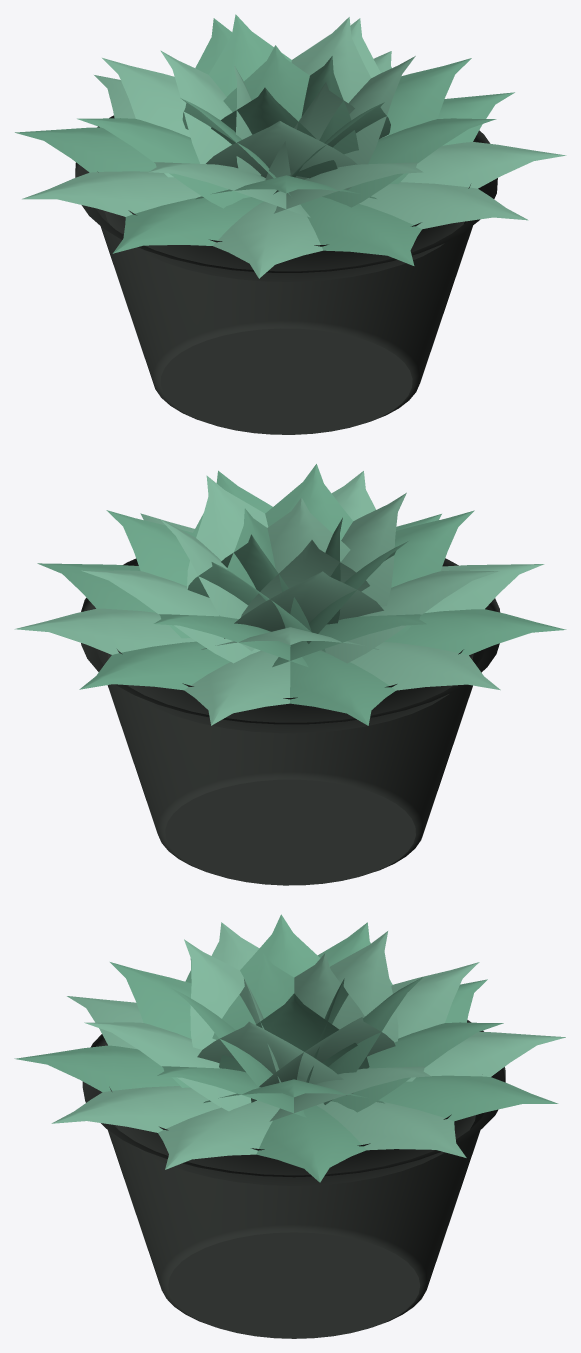
The model's file is succulent_charcoal_S.glb.
3 renders of one model, top to bottom at view 1: azimuth 30°, elevation 25°; view 2: azimuth 150°, elevation 25°; view 3: azimuth 270°, elevation 25°, orthographic.
Parts seen in each view (by area): view 1: Echeveria Succulent (charcoal, S); view 2: Echeveria Succulent (charcoal, S); view 3: Echeveria Succulent (charcoal, S).
Boxes of the visible parts, x1=… form: Echeveria Succulent (charcoal, S): x1=15, y1=14, x2=566, y2=434; Echeveria Succulent (charcoal, S): x1=14, y1=464, x2=566, y2=885; Echeveria Succulent (charcoal, S): x1=14, y1=914, x2=565, y2=1338.
Size of the model in its own units: 0.1146 by 0.0721 by 0.1142.
